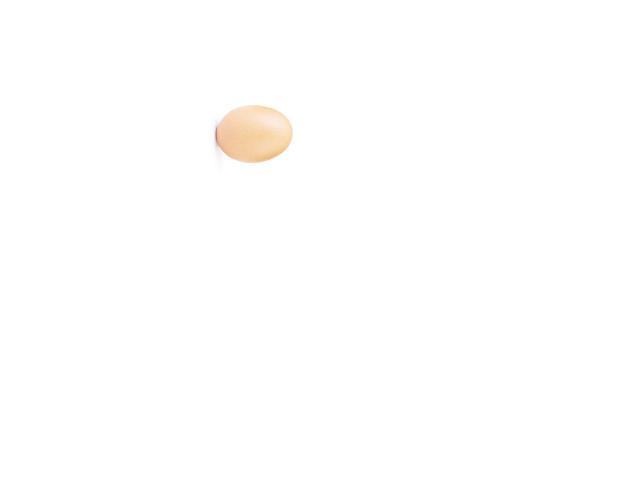egg: (216, 105, 292, 163)
